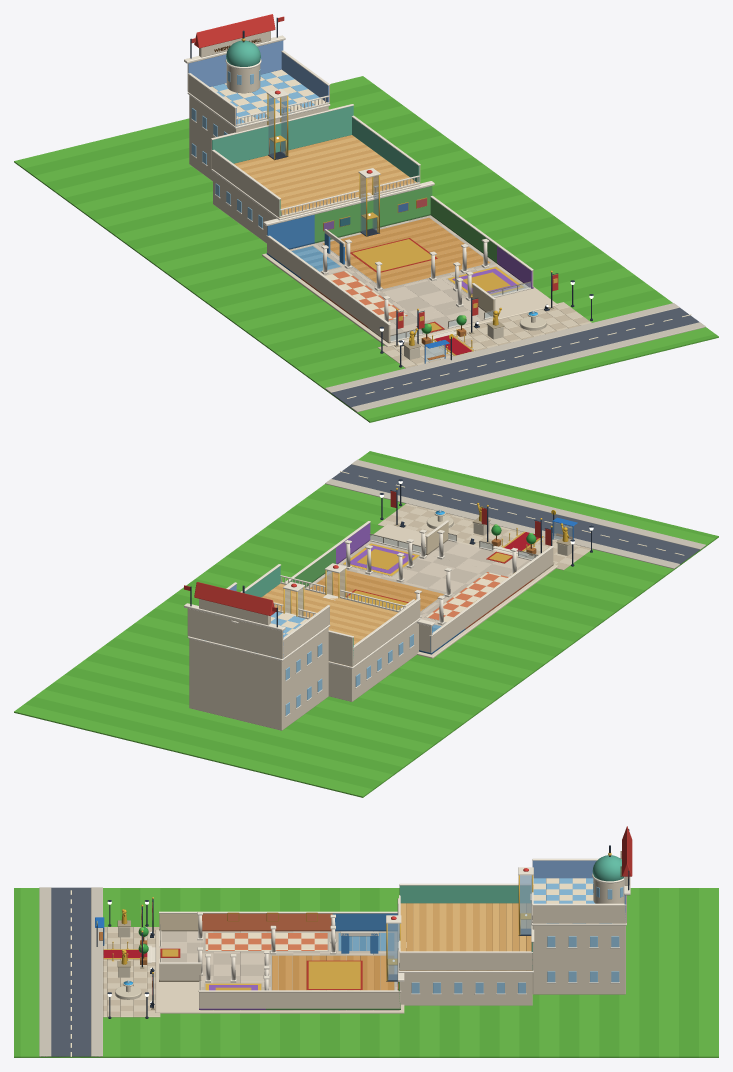
File: shell.glb
3 views of the same model, one above another, from view 1: azimuth 30°, elevation 25°; view 2: azimuth 150°, elevation 25°; view 3: azimuth 270°, elevation 25° (orthographic).
Parts seen in each view (by area): view 1: grounds, building, floor_hall_of_giants, floor_sky_terrace, crown, lift_sky_terrace, grand_2, lift_hall_of_giants, dome, grand_4; view 2: grounds, building, floor_sky_terrace, floor_hall_of_giants, crown, grand_2, lift_hall_of_giants, lift_sky_terrace, grand_4; view 3: grounds, building, floor_hall_of_giants, floor_sky_terrace, crown, lift_sky_terrace, lift_hall_of_giants, dome, grand_4, grand_2, grand_3.
Boxes of the visible parts, x1,y1,x2,y2 form: grounds: [14, 76, 718, 422]; building: [262, 186, 557, 346]; floor_hall_of_giants: [211, 104, 420, 243]; floor_sky_terrace: [187, 40, 330, 181]; crown: [184, 14, 434, 226]; lift_sky_terrace: [266, 88, 288, 160]; grand_2: [394, 270, 558, 347]; lift_hall_of_giants: [357, 168, 380, 236]; dome: [226, 40, 260, 66]; grand_4: [403, 307, 504, 359]; grounds: [14, 451, 718, 797]; building: [285, 520, 558, 658]; floor_sky_terrace: [187, 582, 330, 730]; floor_hall_of_giants: [240, 564, 420, 701]; crown: [184, 582, 434, 631]; grand_2: [390, 488, 554, 563]; lift_hall_of_giants: [323, 563, 346, 600]; lift_sky_terrace: [283, 581, 304, 618]; grand_4: [472, 503, 573, 555]; grounds: [14, 887, 718, 1057]; building: [147, 911, 404, 1013]; floor_hall_of_giants: [398, 875, 534, 1005]; floor_sky_terrace: [531, 858, 626, 994]; crown: [397, 826, 632, 981]; lift_sky_terrace: [518, 867, 533, 935]; lift_hall_of_giants: [386, 915, 406, 981]; dome: [592, 855, 623, 881]; grand_4: [117, 909, 130, 977]; grand_2: [138, 897, 154, 1009]; grand_3: [103, 931, 154, 1007].
Bounding box in the file's own units: 30.1 × 10.71 × 53.
